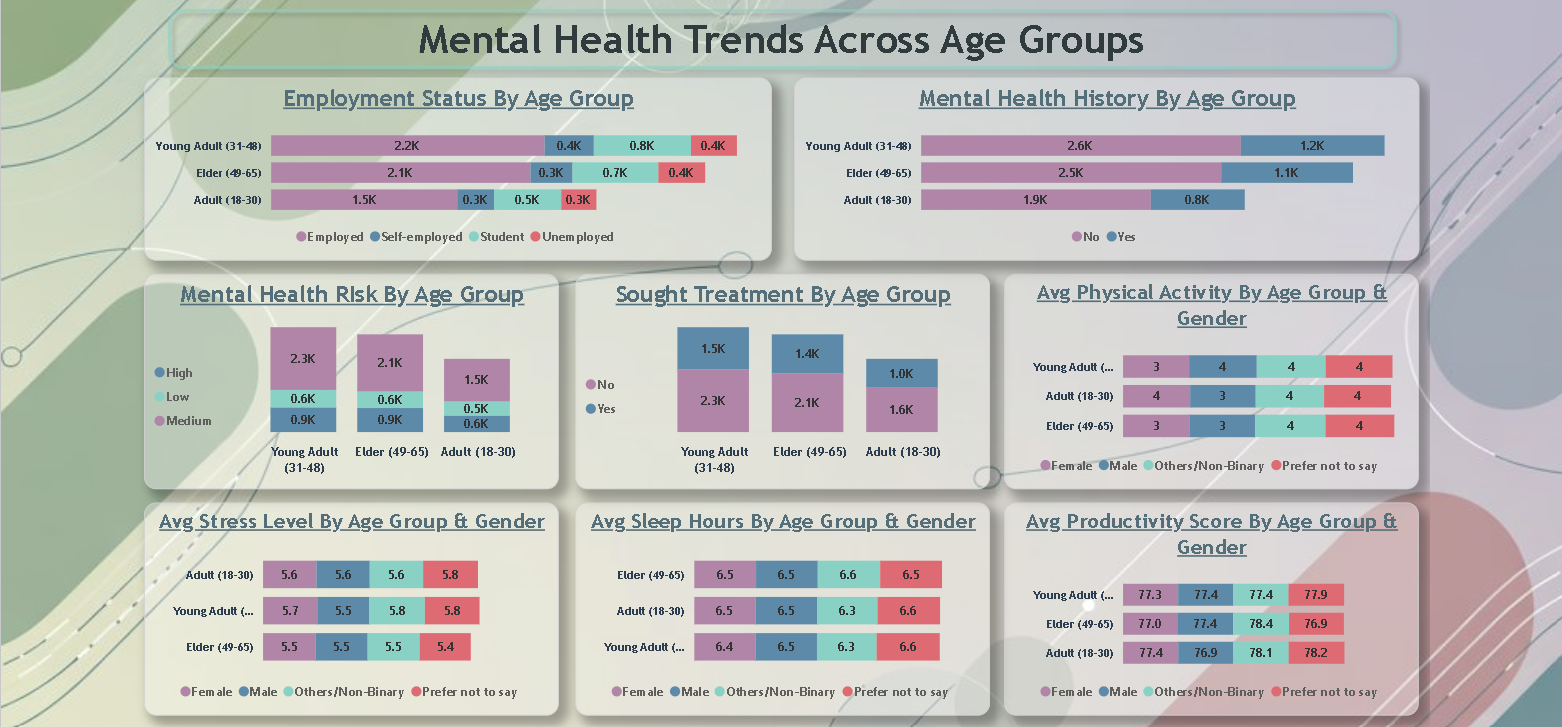

Layout of this report page (visuals, bound fields, positions):
{"tool":"powerbi","page":{"name":"Age-Group Trends","canvas":[1280,720],"ordinal":1},"visuals":[{"type":"shape","box":[24.5,0,1231.4,77],"z":0},{"type":"barChart","title":"Employment Status By Age Group","fields":{"Category":["mental_health_dataset.Age Group"],"Y":["CountNonNull(mental_health_dataset.employment_status)"],"Series":["mental_health_dataset.employment_status"]},"box":[9.8,77,620,181],"z":1000},{"type":"barChart","title":"Mental Health History By Age Group","fields":{"Category":["mental_health_dataset.Age Group"],"Series":["mental_health_dataset.mental_health_history"],"Y":["CountNonNull(mental_health_dataset.mental_health_history)"]},"box":[651.8,77,617.5,181],"z":2000},{"type":"columnChart","title":"Mental Health RIsk By Age Group","fields":{"Category":["mental_health_dataset.Age Group"],"Y":["CountNonNull(mental_health_dataset.mental_health_risk)"],"Series":["mental_health_dataset.mental_health_risk"]},"box":[9.8,270.2,409.6,212.8],"z":3000},{"type":"columnChart","title":"Sought Treatment By Age Group","fields":{"Category":["mental_health_dataset.Age Group"],"Y":["CountNonNull(mental_health_dataset.seeks_treatment)"],"Series":["mental_health_dataset.seeks_treatment"]},"box":[435.3,270.2,409.6,212.8],"z":4000},{"type":"barChart","title":"Avg Physical Activity By Age Group & Gender","fields":{"Category":["mental_health_dataset.Age Group"],"Series":["mental_health_dataset.gender"],"Y":["Avg(mental_health_dataset.physical_activity_days)"]},"box":[859.7,270.2,409.6,212.8],"z":5000},{"type":"barChart","title":"Avg Stress Level By Age Group & Gender","fields":{"Category":["mental_health_dataset.Age Group"],"Y":["Avg(mental_health_dataset.stress_level)"],"Series":["mental_health_dataset.gender"]},"box":[9.8,496.5,409.6,210.3],"z":6000},{"type":"barChart","title":"Avg Sleep Hours By Age Group & Gender","fields":{"Category":["mental_health_dataset.Age Group"],"Y":["Avg(mental_health_dataset.sleep_hours)"],"Series":["mental_health_dataset.gender"]},"box":[435.3,496.5,409.6,210.3],"z":7000},{"type":"barChart","title":"Avg Productivity Score By Age Group & Gender","fields":{"Category":["mental_health_dataset.Age Group"],"Series":["mental_health_dataset.gender"],"Y":["Avg(mental_health_dataset.productivity_score)"]},"box":[859.7,496.5,409.6,210.3],"z":8000}]}

Visuals, with their boxes on the page's 1280x720 design canvas (x1, y1, x2, y2). These are canvas units, not pixel positions in the 1562x727 screenshot, which may show the page scaled, cropped or inside an application window:
shape: 24, 0, 1256, 77
"Employment Status By Age Group" barChart: 10, 77, 630, 258
"Mental Health History By Age Group" barChart: 652, 77, 1269, 258
"Mental Health RIsk By Age Group" columnChart: 10, 270, 419, 483
"Sought Treatment By Age Group" columnChart: 435, 270, 845, 483
"Avg Physical Activity By Age Group & Gender" barChart: 860, 270, 1269, 483
"Avg Stress Level By Age Group & Gender" barChart: 10, 496, 419, 707
"Avg Sleep Hours By Age Group & Gender" barChart: 435, 496, 845, 707
"Avg Productivity Score By Age Group & Gender" barChart: 860, 496, 1269, 707
